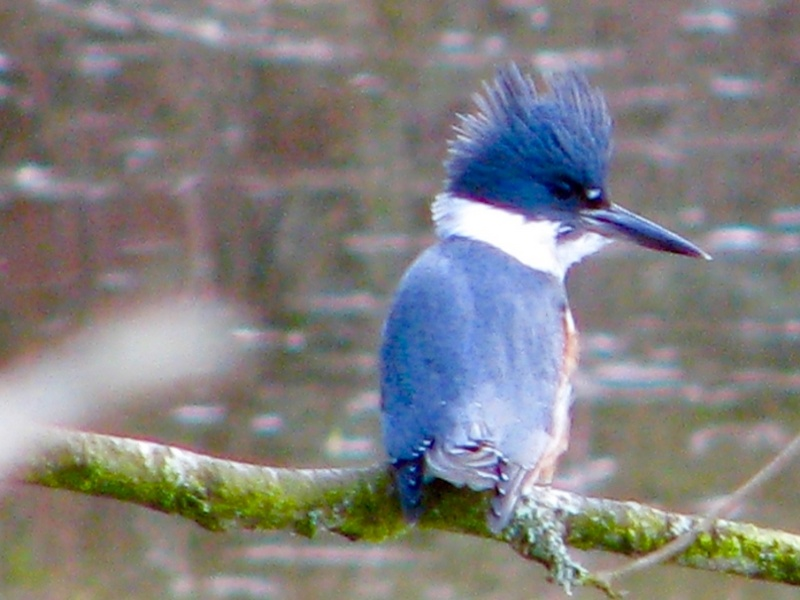kingfisher: (375, 62, 714, 525)
